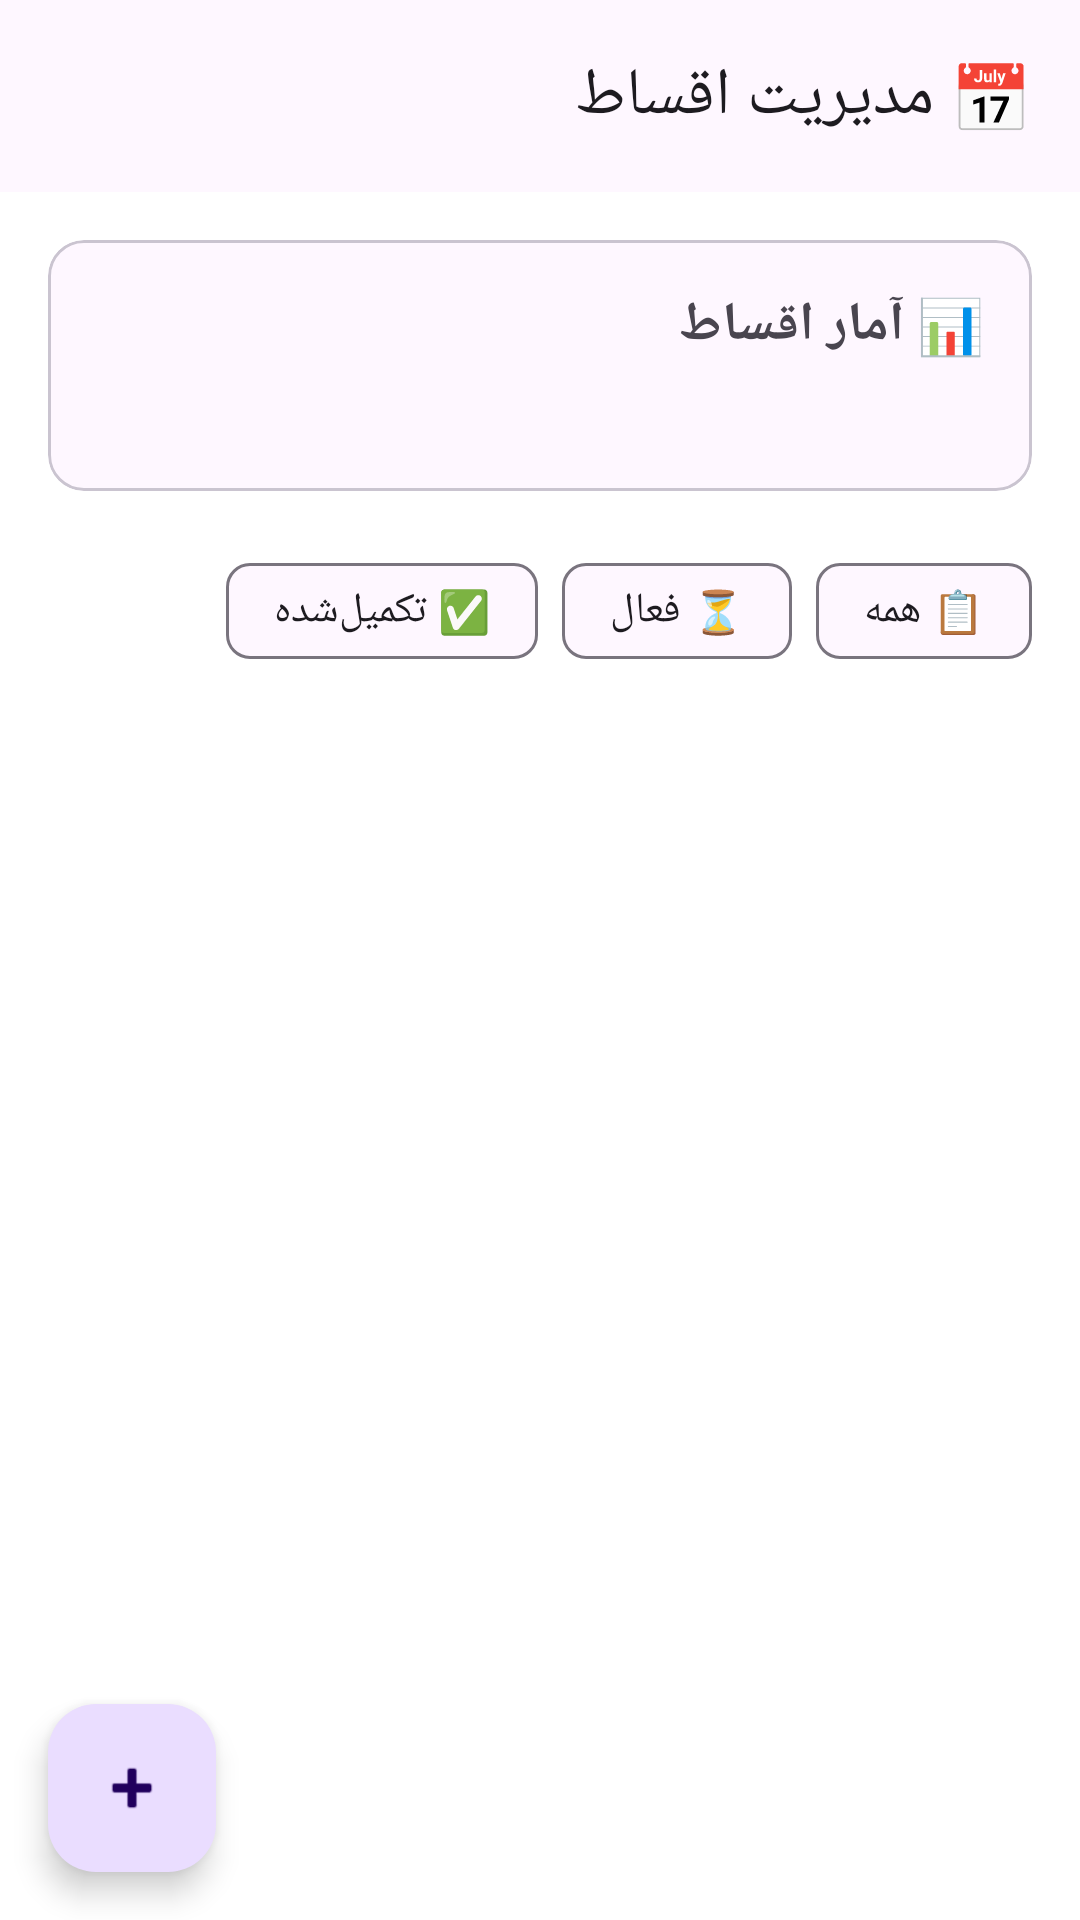

Icon bounding boxes for this 1080px x 1920px phone screenshot, format [x1=x1, y1=y1, x2=x2, y2=y2]:
add: [x1=48, y1=1704, x2=216, y2=1872]
